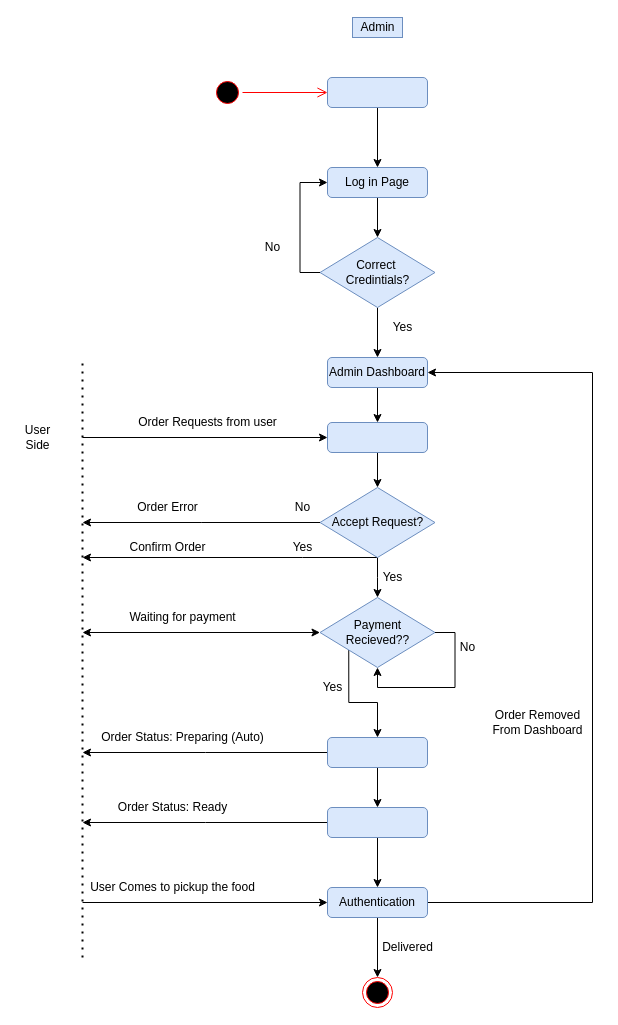
Image size: 618x1025. Some labels were removed from this diagram. The centre of each missing label's shape, as x and y in pixels:
"Food Prepared" belongs at point 377,822.
"Food Requests" belongs at point 377,437.
"Home Page" belongs at point 377,92.
"Start Preparing Food" belongs at point 377,752.
